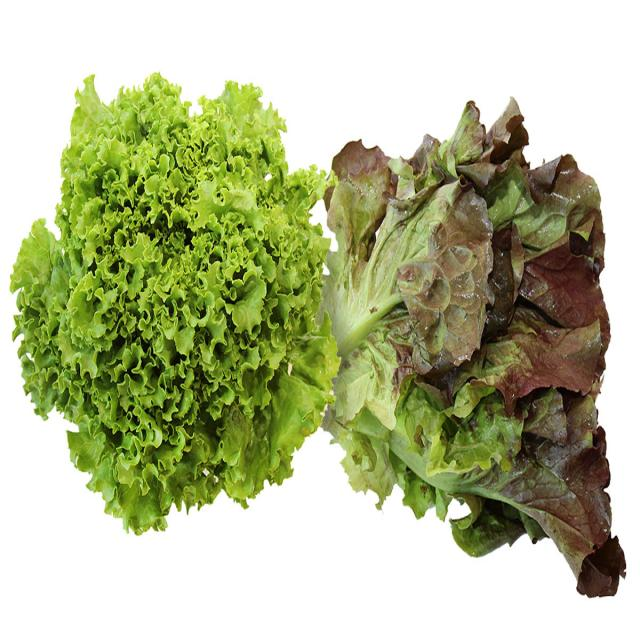lettuce: (10, 76, 315, 523)
